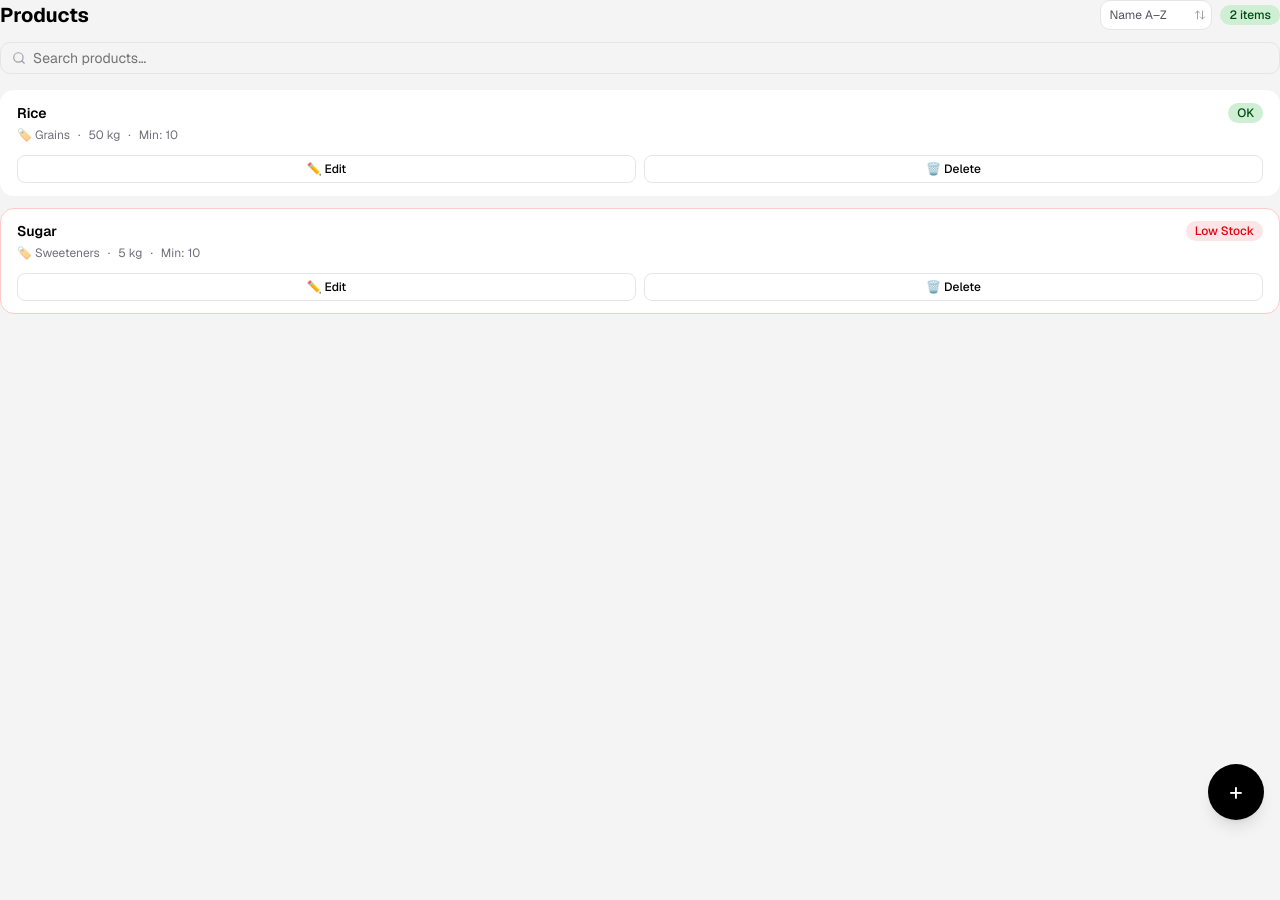
ProductsClient CRUD Operations › Update Operation › opens edit dialog with product data
Step 1. Click the button "✏️ Edit" below "Grains" → (326, 169), box [17,155,636,183]
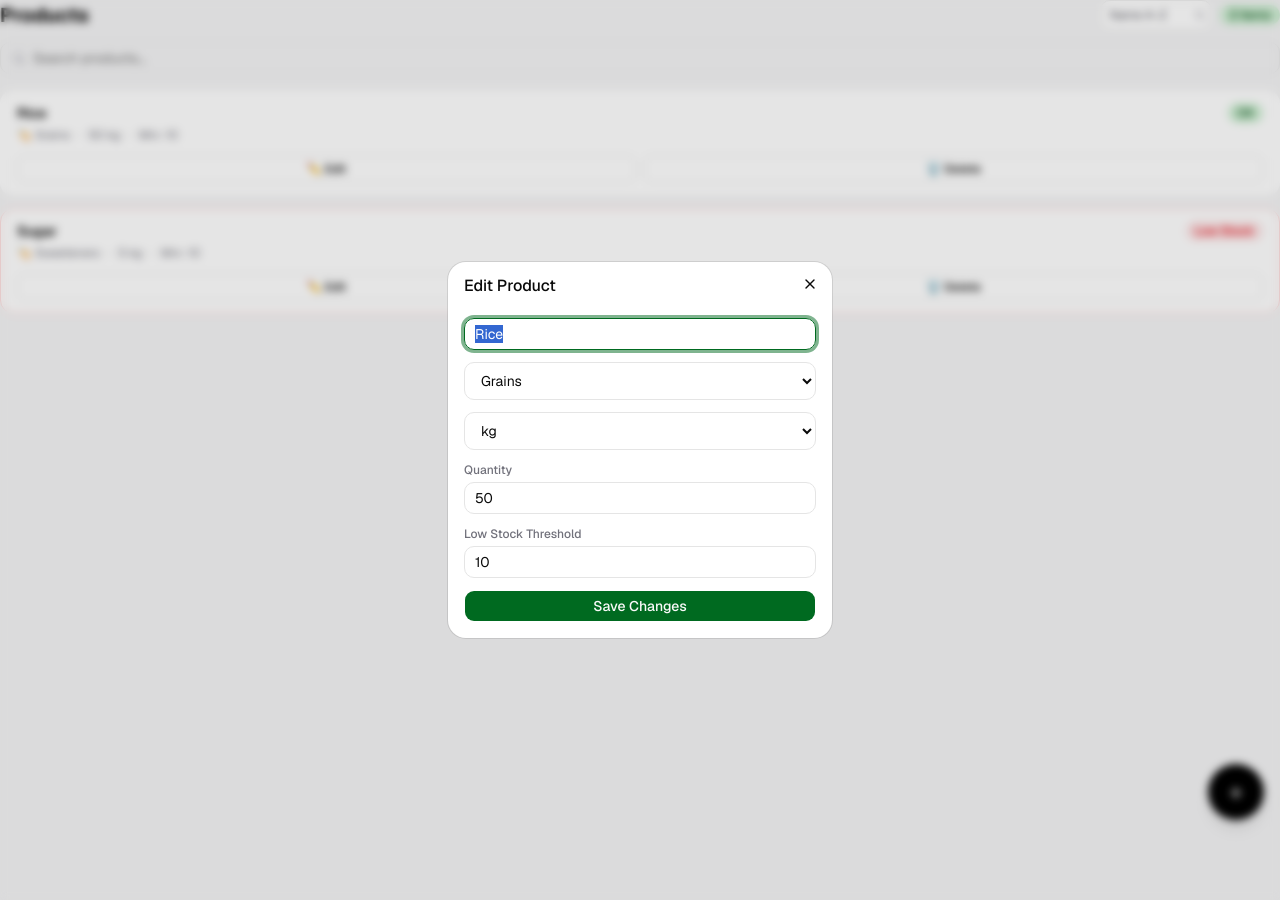
Result: the heading "Edit Product" is shown at [464,275,556,296]
Result: the 1st field with placeholder "Product name" holds "Rice" at [464,318,816,350]
